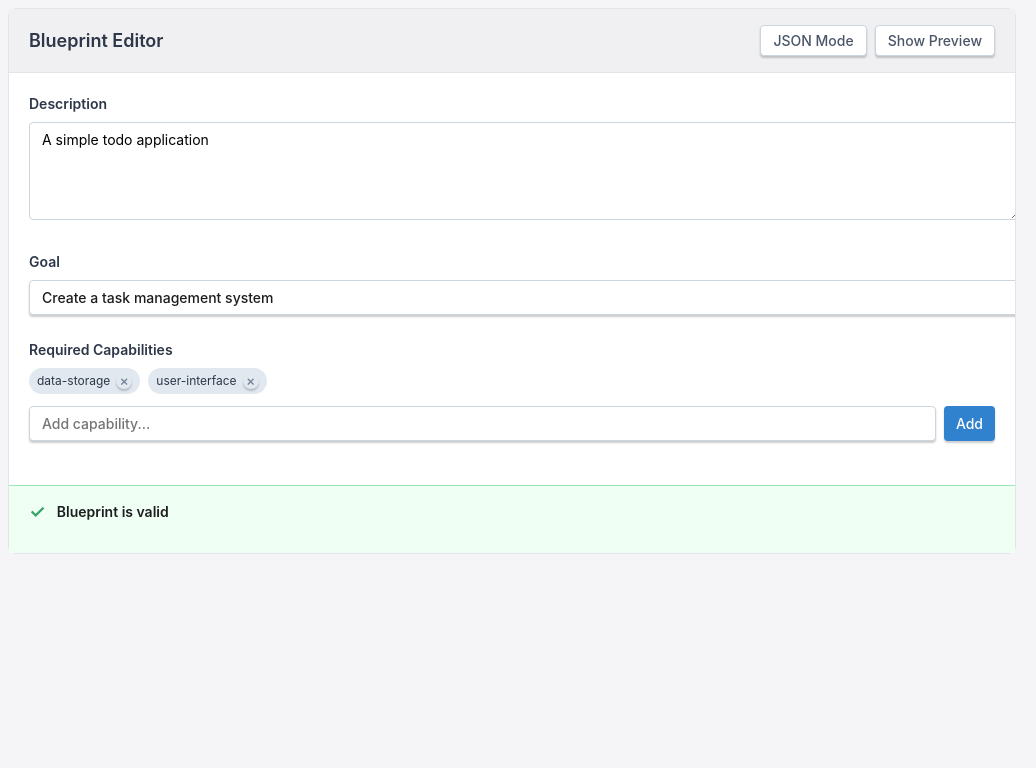
it: BlueprintEditor › allows adding capabilities
Type "new-capability" into the field with placeholder "Add capability..." at {"x": 482, "y": 423}, box [29,406,936,440]
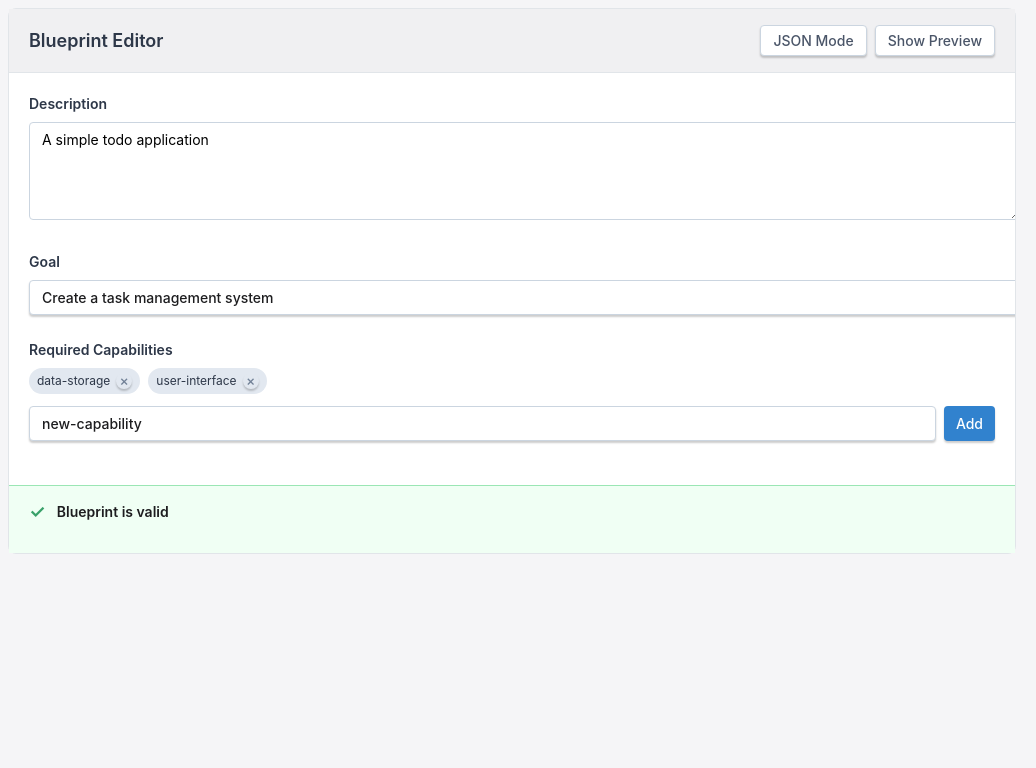
Click the button "Add" at {"x": 969, "y": 423}, box [944,406,995,440]
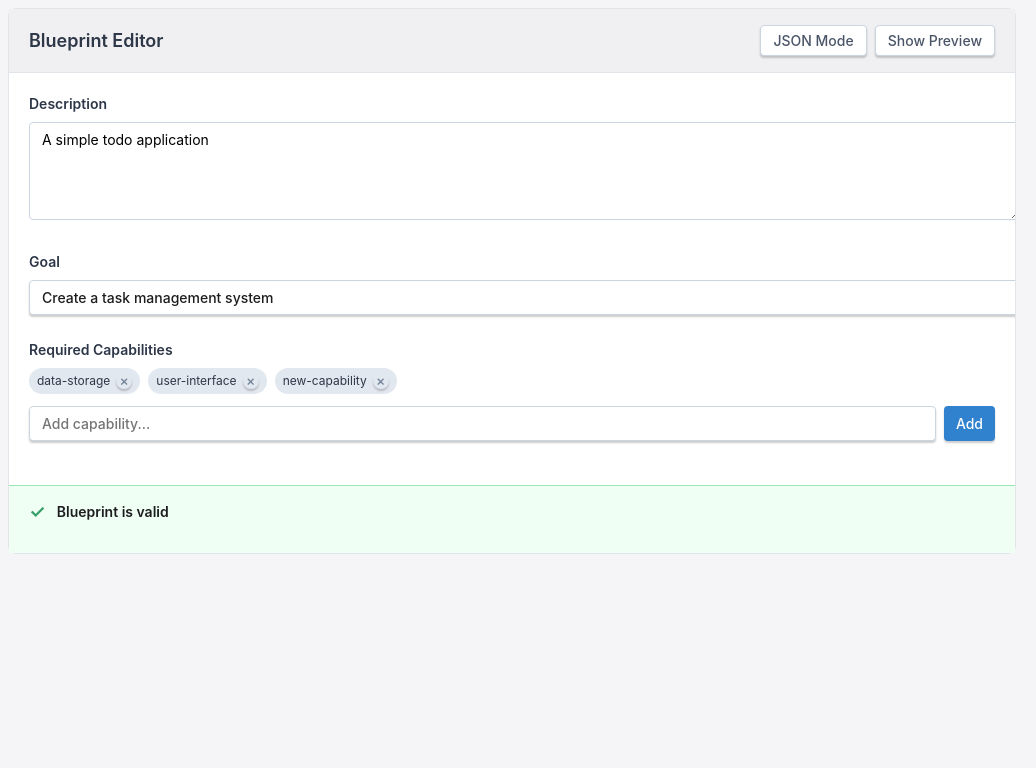
Expected: the text "new-capability" is shown, [283,372,367,390]
